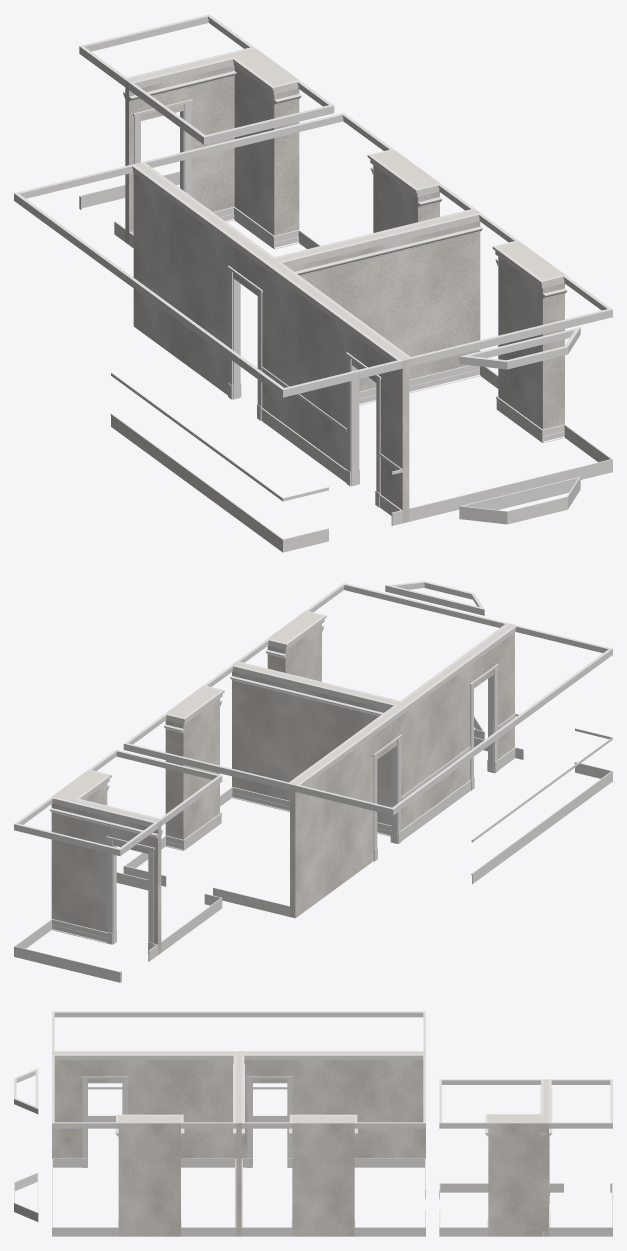
The model's file is walls_0_l.glb.
The picture shows the model from 3 angles, top to bottom: view 1: azimuth 30°, elevation 25°; view 2: azimuth 150°, elevation 25°; view 3: azimuth 270°, elevation 25°; orthographic projection. The views are drawn at different scales.
Parts seen in each view (by area): view 1: walls_0_l_plaster, walls_0_l_trim, molduras; view 2: walls_0_l_plaster, walls_0_l_trim, molduras; view 3: walls_0_l_plaster, walls_0_l_trim, molduras.
Part boxes in pixels (bbox=[...]): walls_0_l_plaster: bbox=[125, 48, 564, 523]; walls_0_l_trim: bbox=[14, 14, 612, 552]; molduras: bbox=[123, 71, 567, 442]; walls_0_l_plaster: bbox=[51, 611, 514, 954]; walls_0_l_trim: bbox=[14, 581, 612, 982]; molduras: bbox=[49, 625, 390, 955]; walls_0_l_plaster: bbox=[52, 1052, 548, 1236]; walls_0_l_trim: bbox=[14, 1011, 612, 1236]; molduras: bbox=[115, 1064, 552, 1236].
Size of the model in its own units: 5.95 by 2.8 by 13.45.
Materials: 2 (1 with a texture image).
